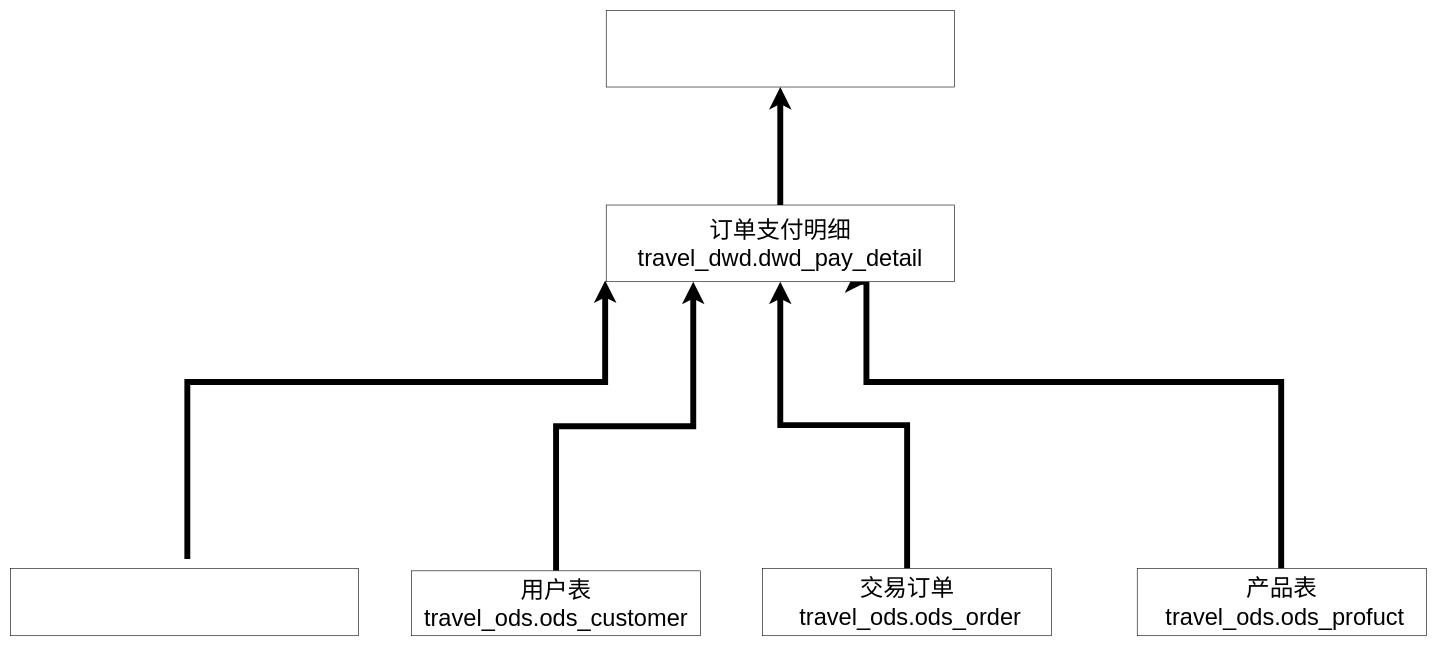
This 1437x646 diagram has some shape labels left out. Each missing label, with the centre of its shape:
交易详情表 travel_ods.ods_order_detail: (184,602)
支付类统计指标 travel_ads.ads_pay: (780,48)
